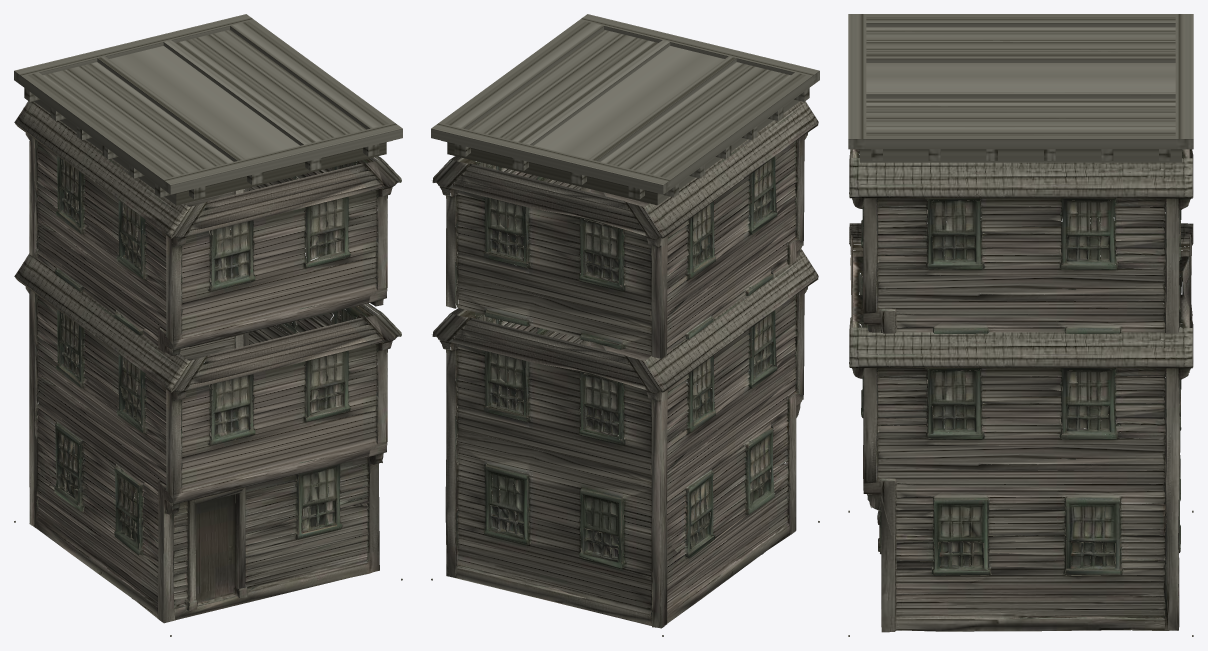
The model's file is bldg-row-clapboard-a.glb.
The picture shows the model from 3 angles, left to right: view 1: azimuth 30°, elevation 25°; view 2: azimuth 150°, elevation 25°; view 3: azimuth 270°, elevation 25°; orthographic projection. The views are drawn at different scales.
Visible parts, largest first — view 1: bldg-row-clapboard-a; view 2: bldg-row-clapboard-a; view 3: bldg-row-clapboard-a.
Part boxes in pixels (x1,y1,x2,y2): bldg-row-clapboard-a: (14, 14, 402, 636); bldg-row-clapboard-a: (431, 14, 819, 636); bldg-row-clapboard-a: (848, 14, 1193, 636).
Bounding box in the file's own units: 1.02 × 1.9 × 1.19.
Materials: 1 (1 with a texture image).
